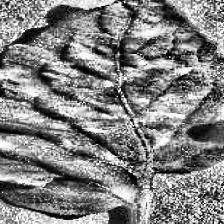leaf mold: (0, 0, 224, 219)
